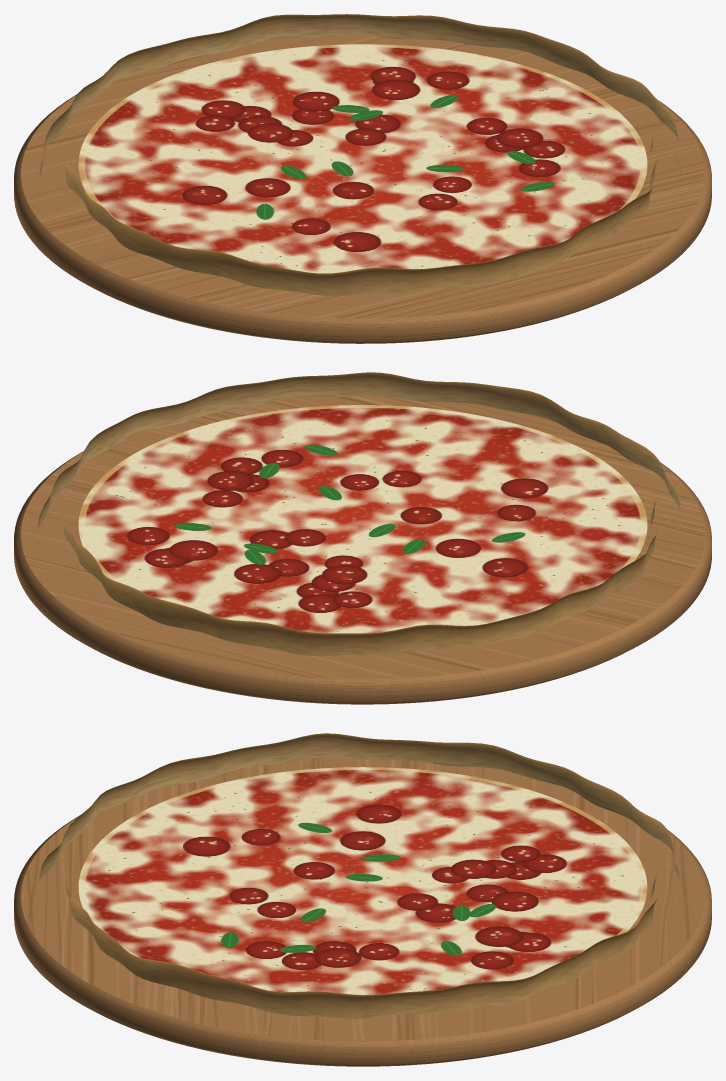
File: pizza.glb
3 views of the same model, one above another, from view 1: azimuth 30°, elevation 25°; view 2: azimuth 150°, elevation 25°; view 3: azimuth 270°, elevation 25° (orthographic).
Parts seen in each view (by area): view 1: pizza; view 2: pizza; view 3: pizza.
Part boxes in pixels (bbox=[...]): pizza: bbox=[14, 14, 711, 343]; pizza: bbox=[14, 372, 711, 704]; pizza: bbox=[14, 733, 711, 1066].
Size of the model in its own units: 0.4 by 0.0369 by 0.4.
3 materials, 3 textured.
